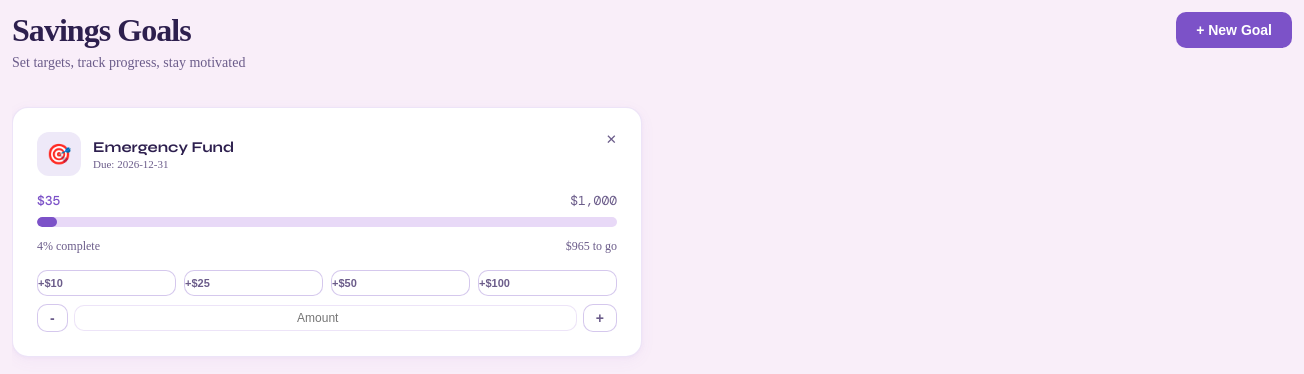
Test: Goals Interactions › deletes a goal when delete button is clicked
The width and height of the screenshot is (1304, 374).
expect the text "Emergency Fund" is shown: met, box [93, 138, 234, 156]
Click the button "✕". click: (611, 140)
box: [606, 132, 617, 147]
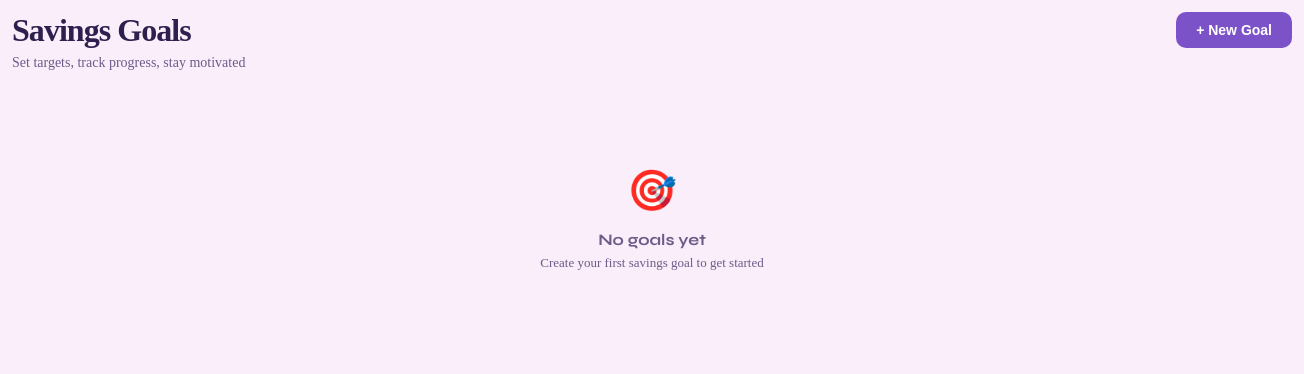
expect the text "Emergency Fund" is gone: met
